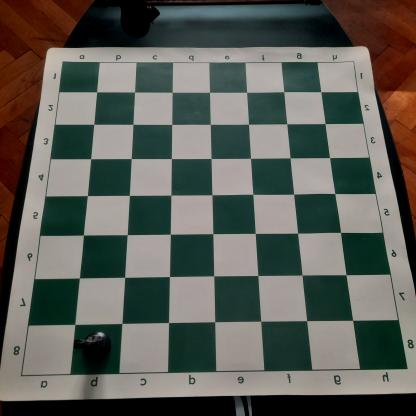black-knight: (73, 330, 112, 364)
